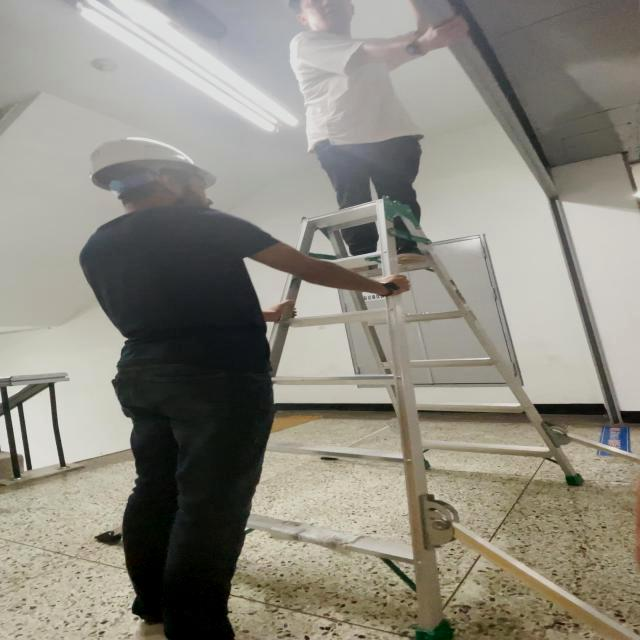hand_noglove: (420, 13, 472, 53), (380, 268, 416, 299), (273, 296, 302, 325)
head_helmet: (81, 130, 216, 188)
person: (71, 128, 278, 640), (307, 0, 423, 268)
